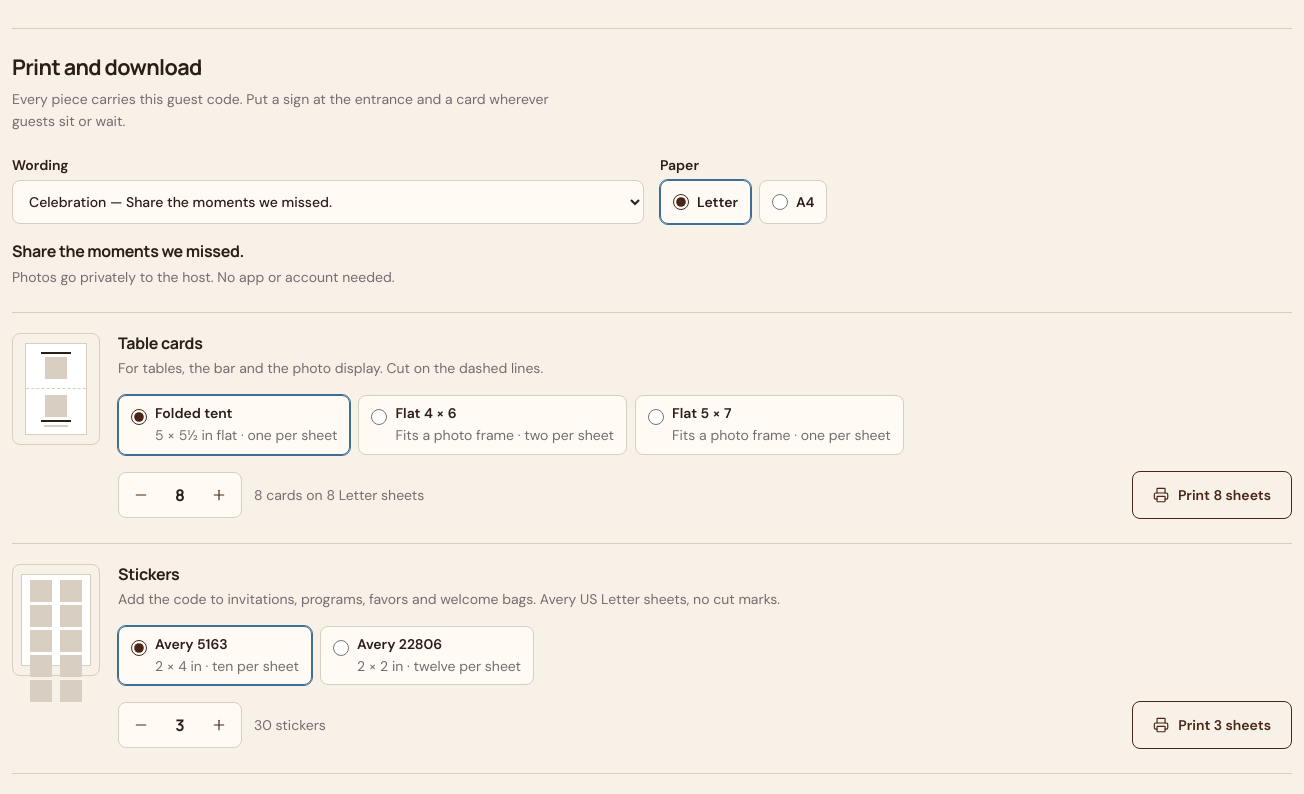
Test: print pack file actions › does not release an old event file after the event entry is removed
Click the button "Print 8 sheets": point(1212, 495) top-left (1132, 471), bottom-right (1292, 519)
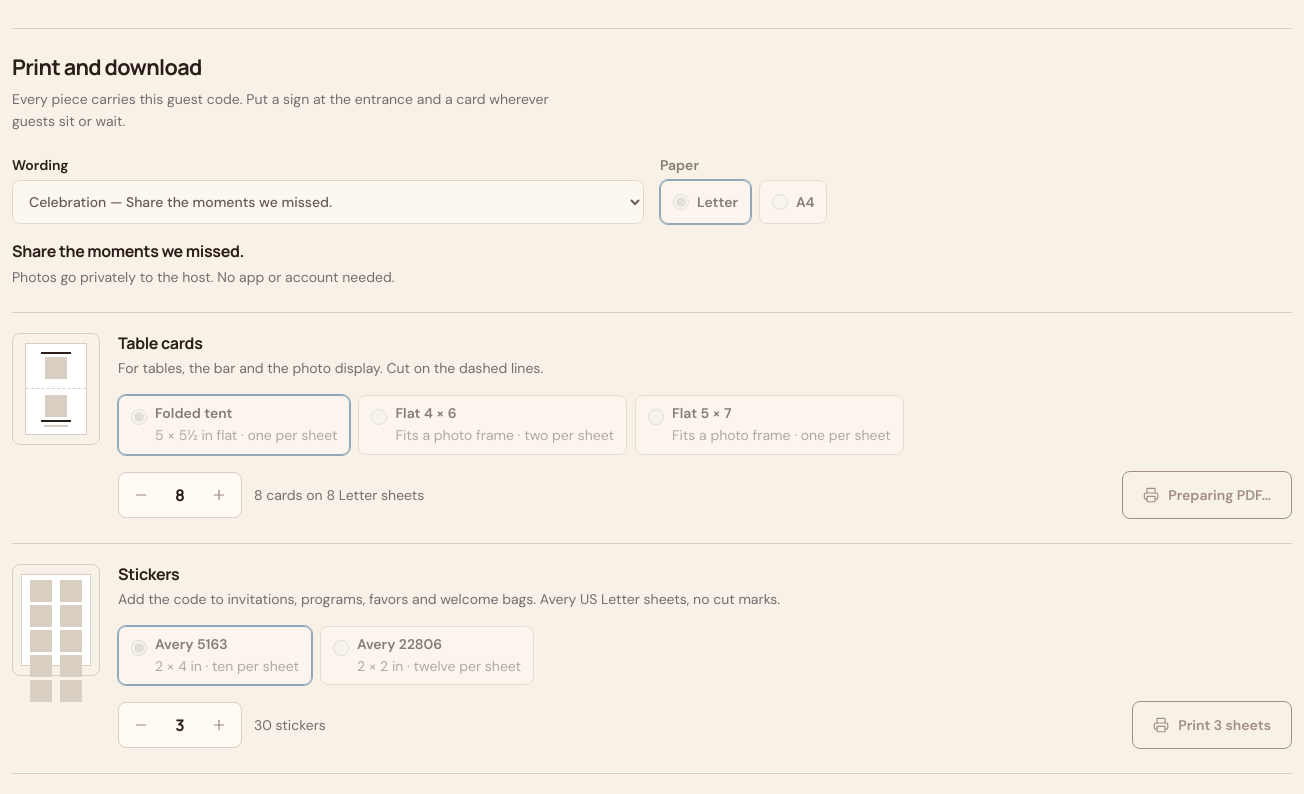
Now the button "Preparing PDF…" is disabled, box top-left (1122, 471), bottom-right (1292, 519)
